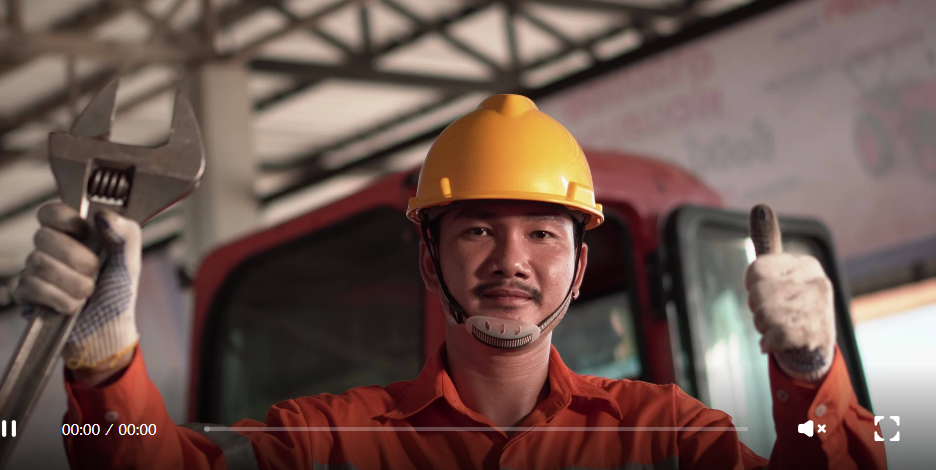safety_helmet: (405, 92, 605, 231)
